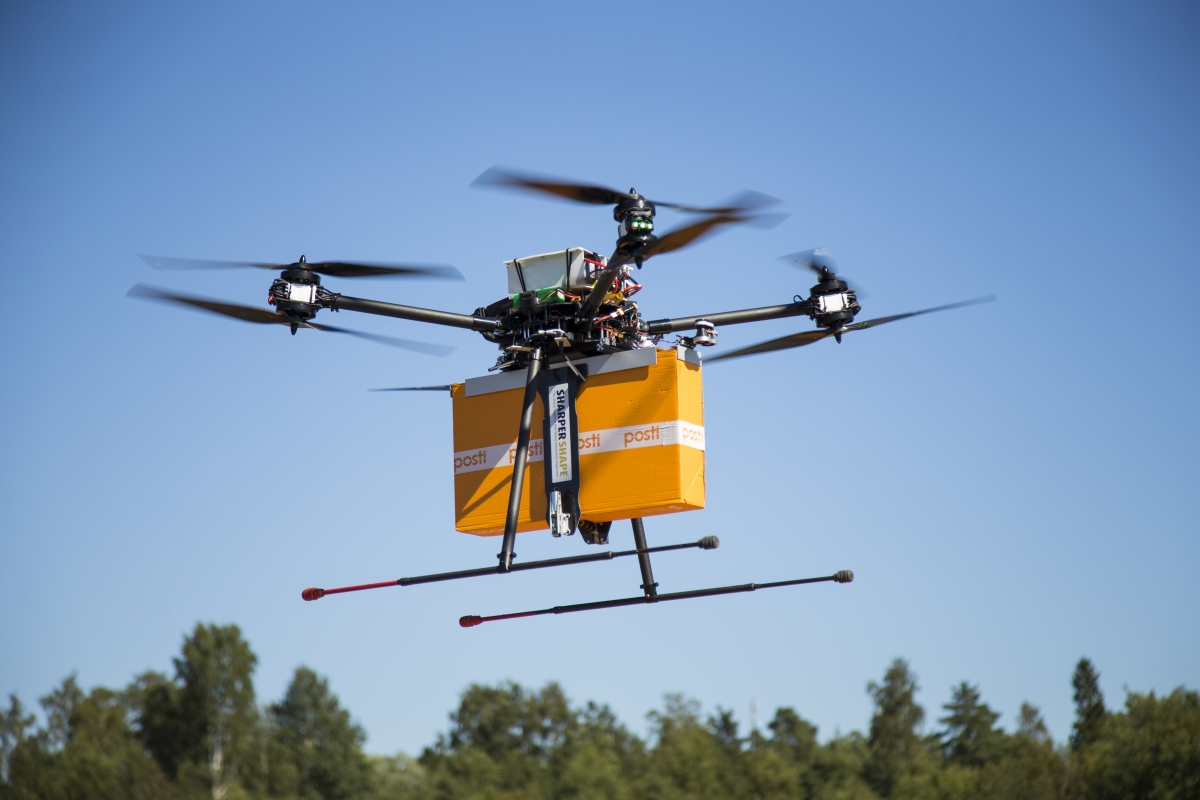drone: (124, 162, 1002, 630)
